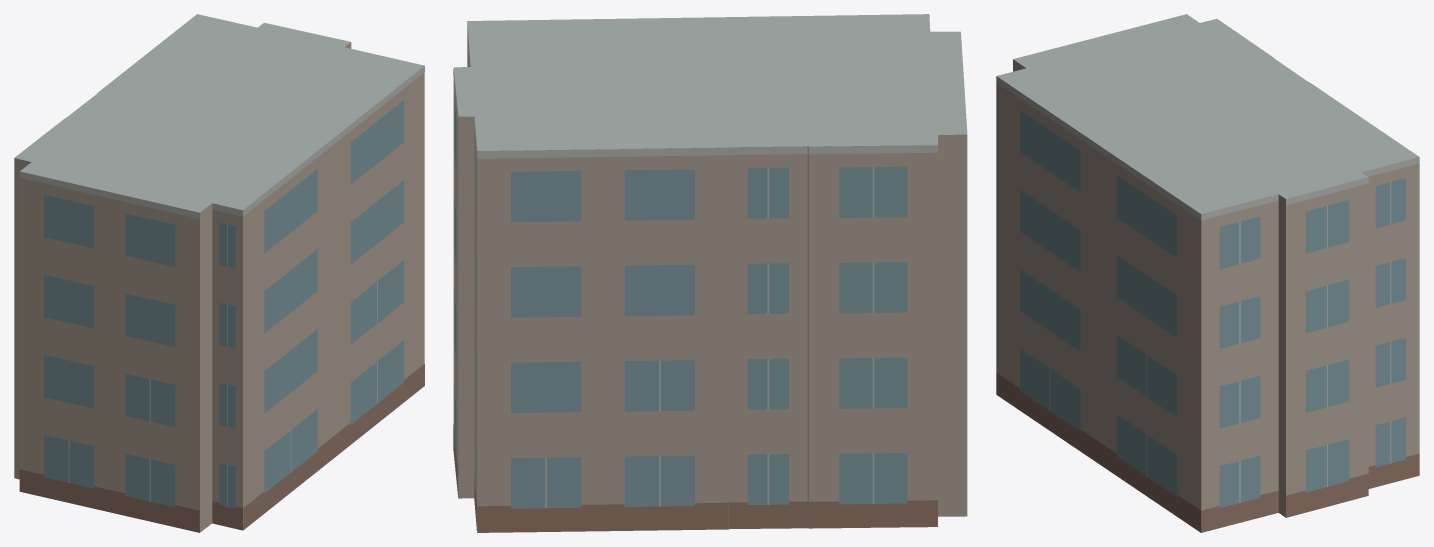
Rendered from survey-upis-32835394.glb.
The picture shows the model from 3 angles, left to right: view 1: azimuth 30°, elevation 25°; view 2: azimuth 150°, elevation 25°; view 3: azimuth 270°, elevation 25°; orthographic projection. The views are drawn at different scales.
Parts seen in each view (by area): view 1: survey-upis-32835394.tmp; view 2: survey-upis-32835394.tmp; view 3: survey-upis-32835394.tmp.
Boxes of the visible parts, x1=… form: survey-upis-32835394.tmp: x1=14, y1=14, x2=424, y2=532; survey-upis-32835394.tmp: x1=453, y1=14, x2=967, y2=532; survey-upis-32835394.tmp: x1=996, y1=14, x2=1419, y2=532.
Bounding box in the file's own units: 16.44 × 12.2 × 14.69.
